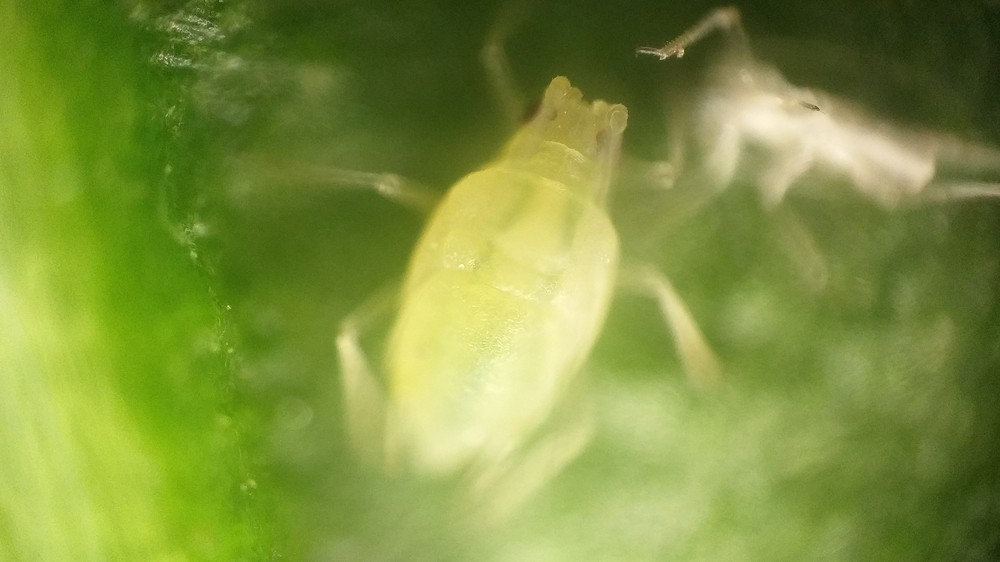Pulgon: (318, 3, 715, 552)
